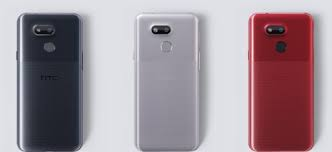htc: (129, 8, 204, 152), (241, 8, 316, 152), (13, 8, 88, 151)
